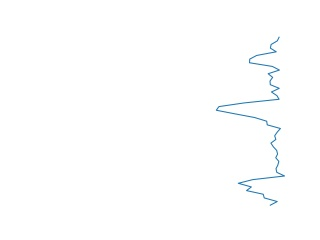underwaterNaturalLevee: (213, 38, 289, 206)
